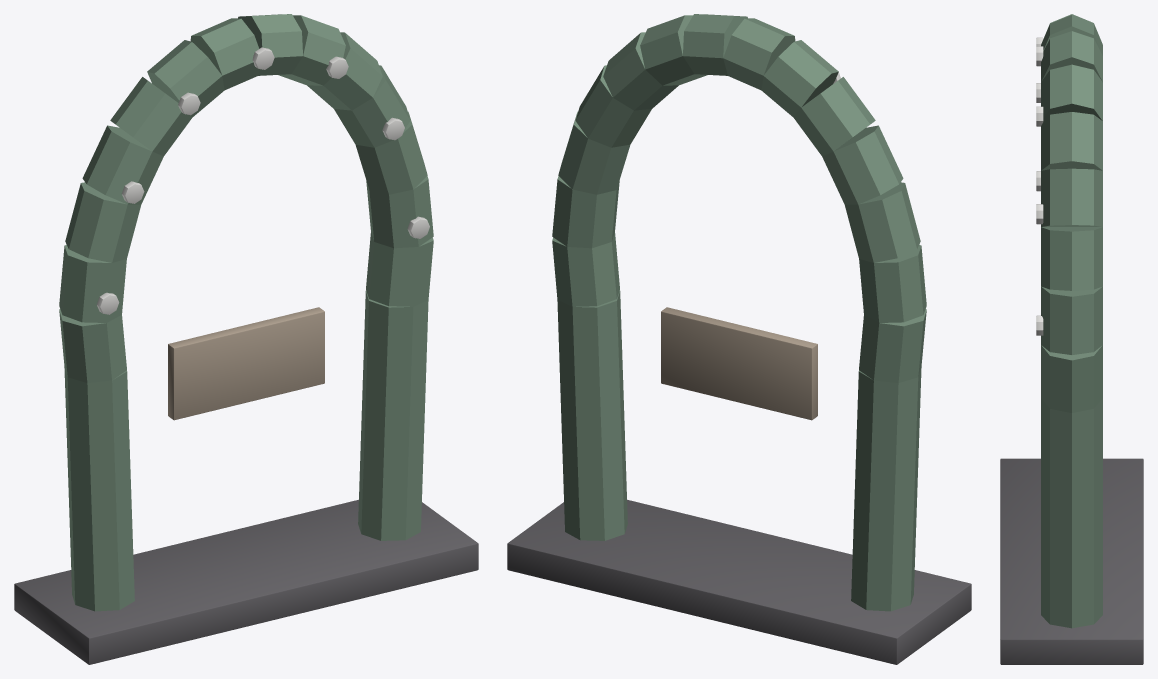
The model's file is perk_lucky_strike.gltf.
3 renders of one model, left to right at view 1: azimuth 30°, elevation 25°; view 2: azimuth 150°, elevation 25°; view 3: azimuth 270°, elevation 25°, orthographic. The views are drawn at different scales.
Visible parts, largest first — view 1: Body, Glow; view 2: Body; view 3: Body, Glow.
Boxes of the visible parts, box(x1,y1,x2,y2) form: Body: box(14, 14, 478, 664); Glow: box(96, 47, 429, 314); Body: box(507, 14, 971, 664); Body: box(1000, 14, 1143, 664); Glow: box(1036, 37, 1043, 335).
Bounding box in the file's own units: 1.8 × 2.53 × 0.6.
